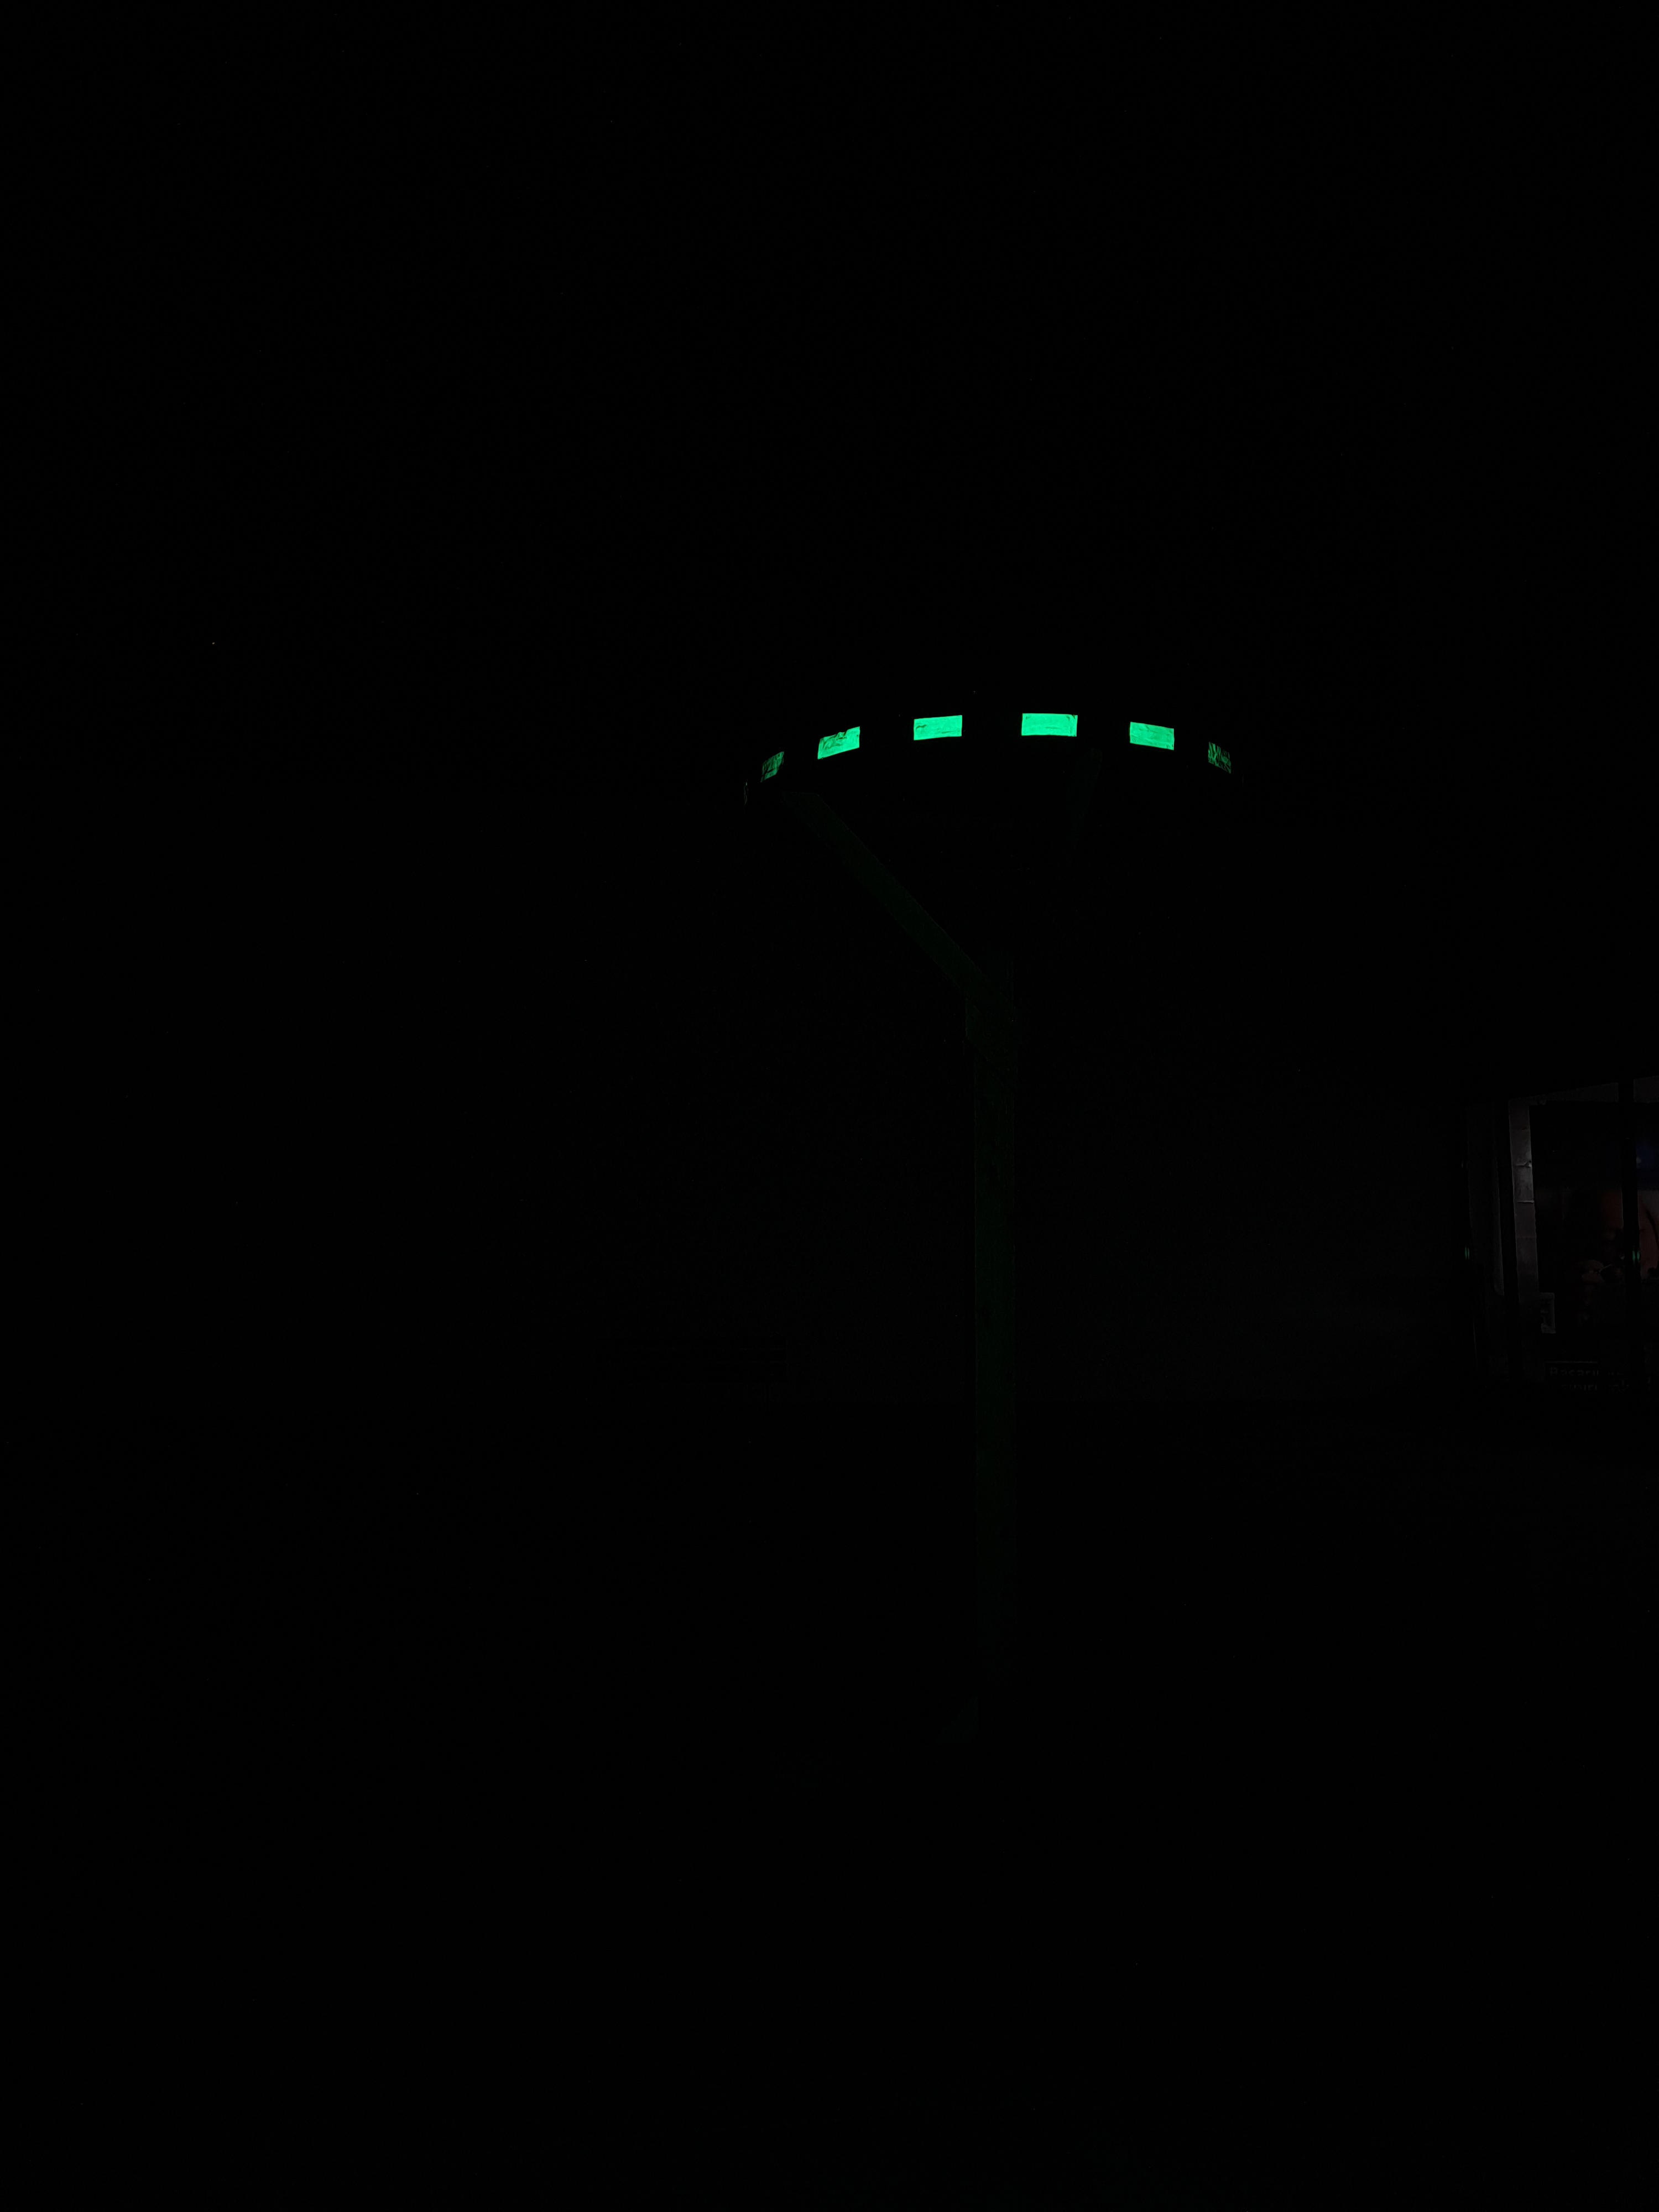hoop: (749, 712, 1239, 789)
